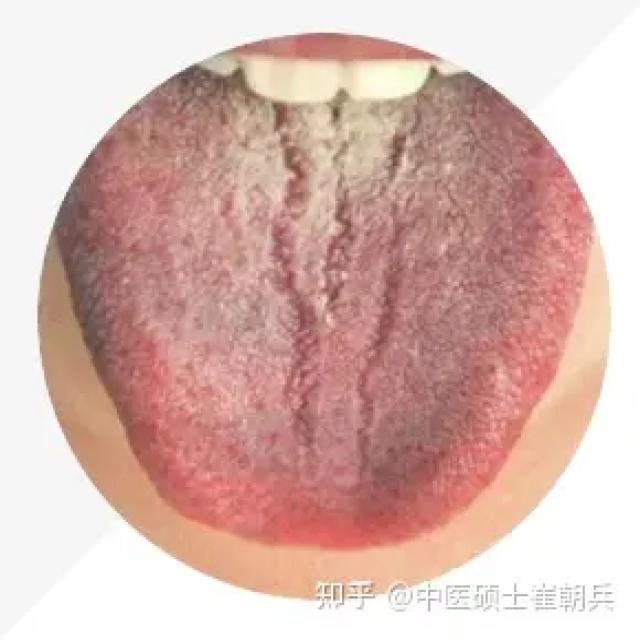tongue: (83, 92, 582, 551)
